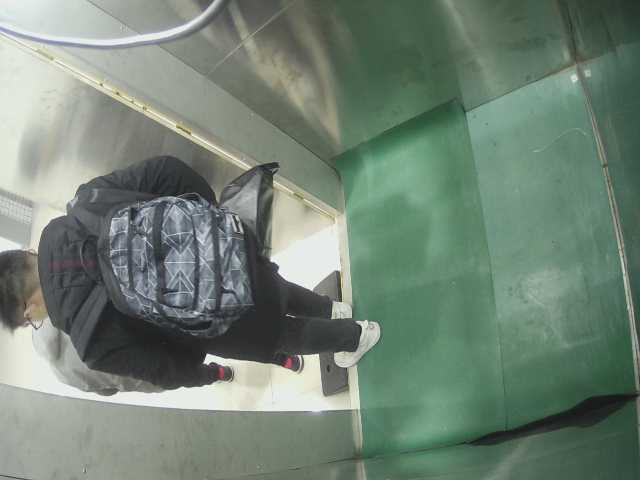bag: (88, 185, 261, 347)
person: (3, 212, 388, 365)
